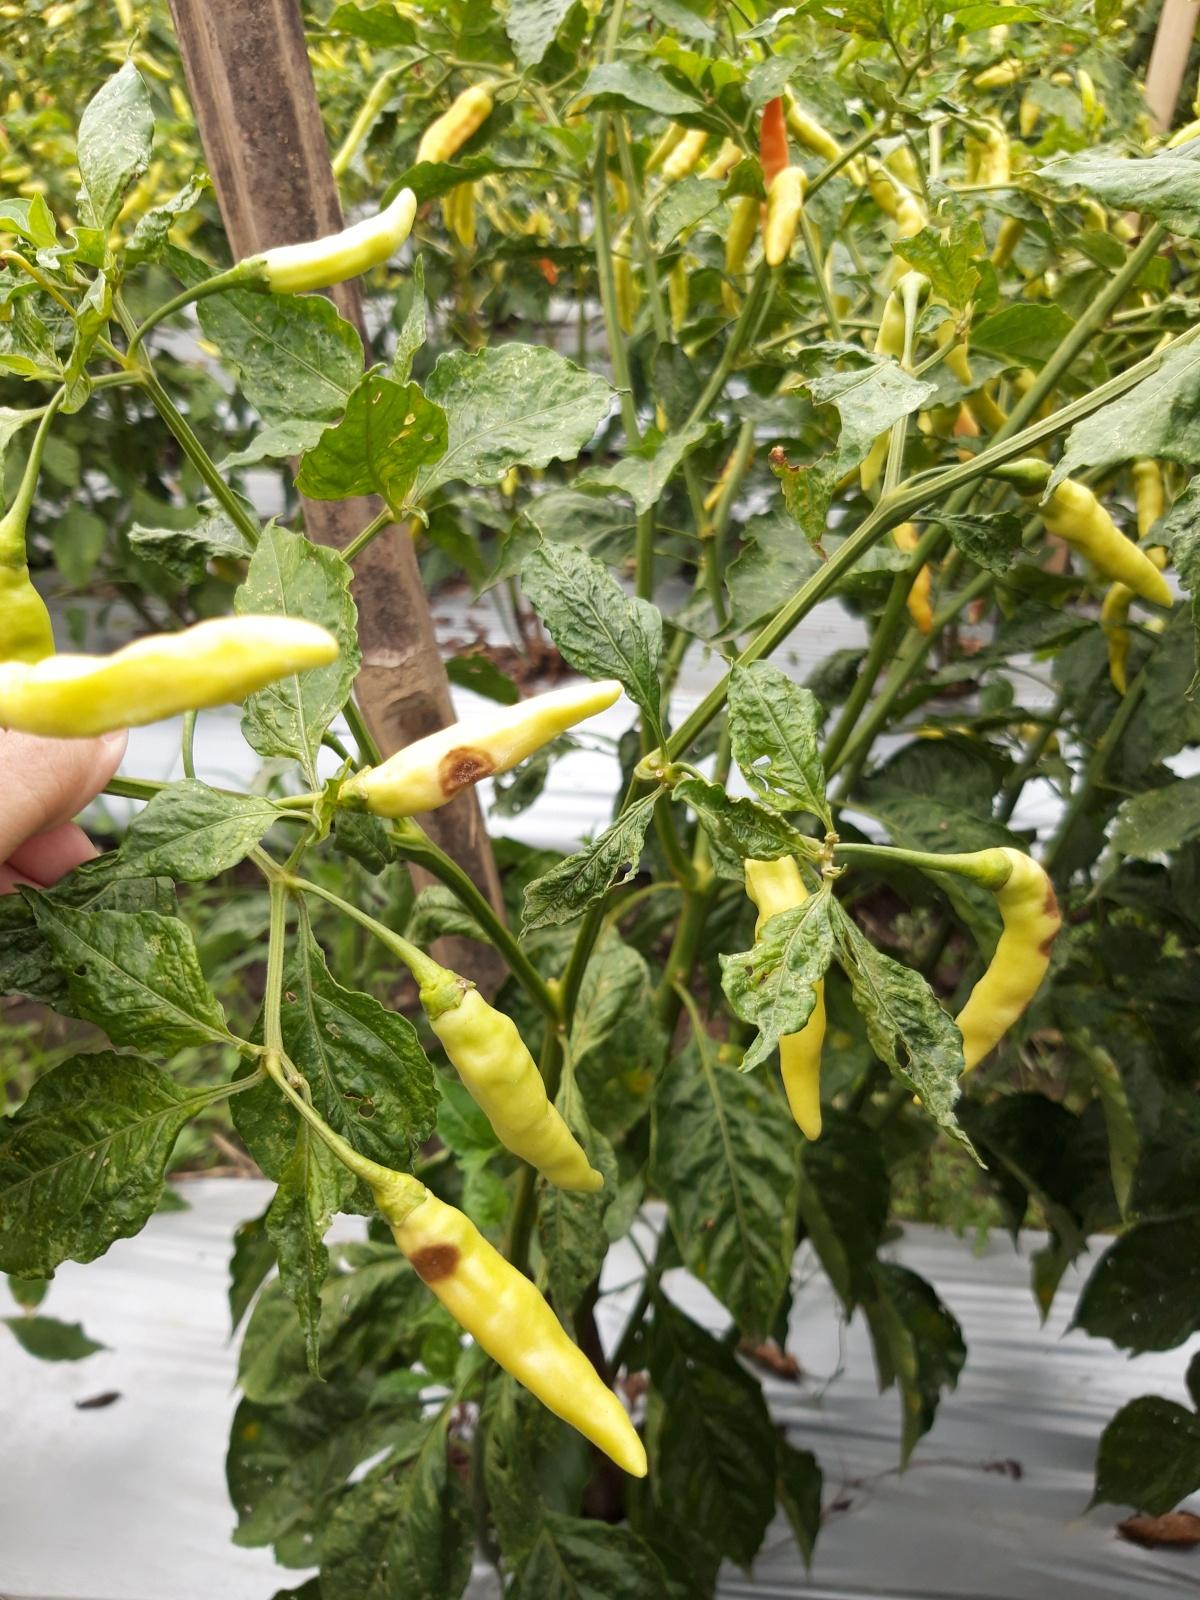cabai_normal: (1, 614, 342, 743), (421, 968, 605, 1193), (1013, 459, 1174, 609), (237, 185, 418, 297), (415, 82, 495, 166), (764, 166, 811, 265)
lalat_buah: (376, 1174, 648, 1477), (338, 679, 621, 818), (913, 847, 1061, 1107)
